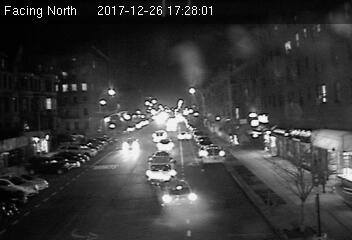car: (154, 178, 198, 209), (121, 138, 142, 152), (153, 138, 174, 151), (176, 131, 192, 141)
truck: (145, 158, 175, 180), (201, 145, 225, 165)
